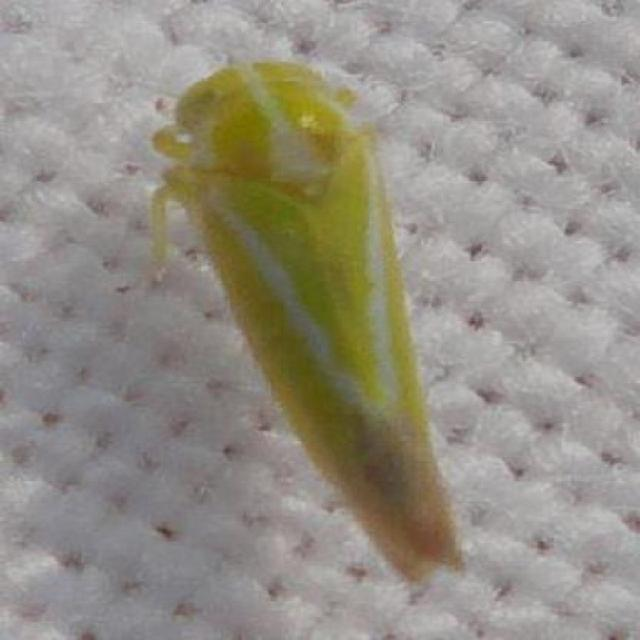green-leafhopper: (156, 47, 481, 596)
